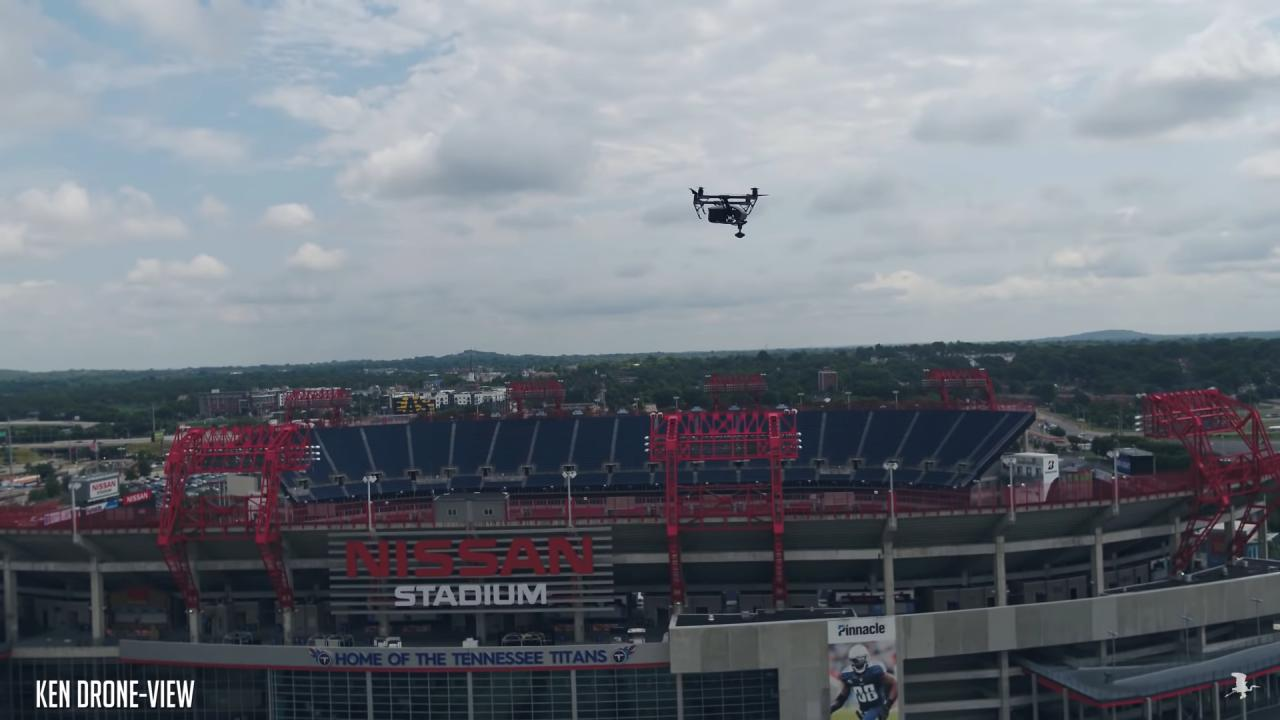Drone: (680, 174, 776, 249)
